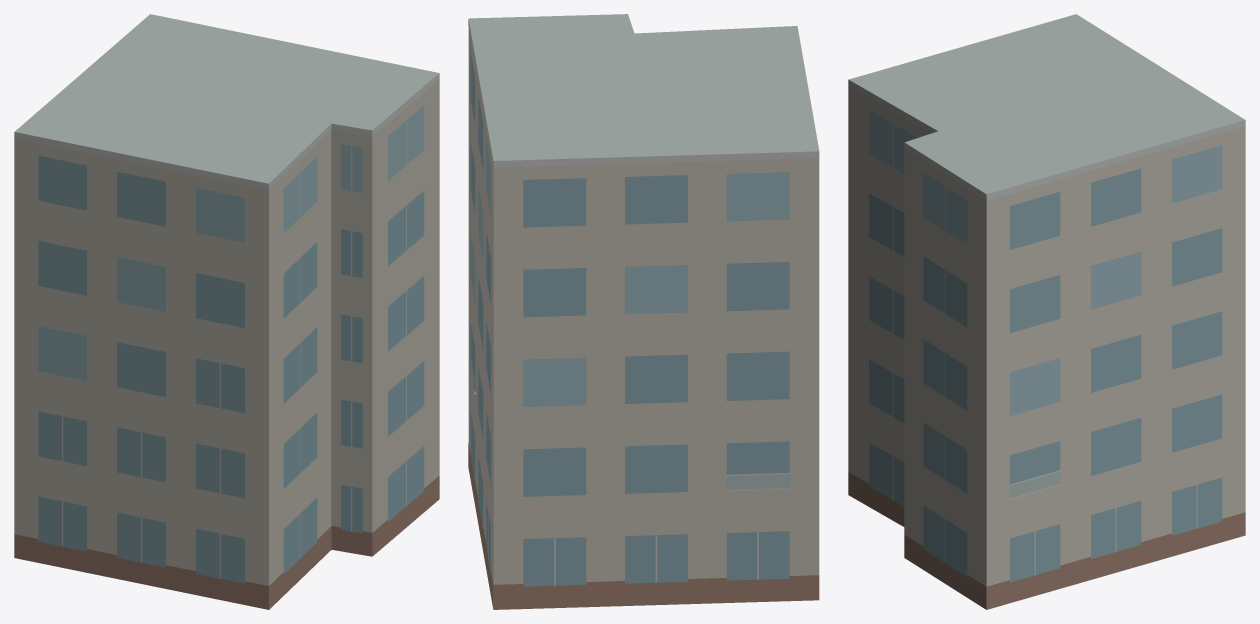
The model's file is survey-upis-32888349.glb.
3 renders of one model, left to right at view 1: azimuth 30°, elevation 25°; view 2: azimuth 150°, elevation 25°; view 3: azimuth 270°, elevation 25°, orthographic. The views are drawn at different scales.
Visible parts, largest first — view 1: survey-upis-32888349.tmp; view 2: survey-upis-32888349.tmp; view 3: survey-upis-32888349.tmp.
Part boxes in pixels (x1,y1,x2,y2): survey-upis-32888349.tmp: (14,14,439,609); survey-upis-32888349.tmp: (468,14,819,609); survey-upis-32888349.tmp: (848,14,1245,609).
Bounding box in the file's own units: 15.47 × 16.6 × 14.39.
